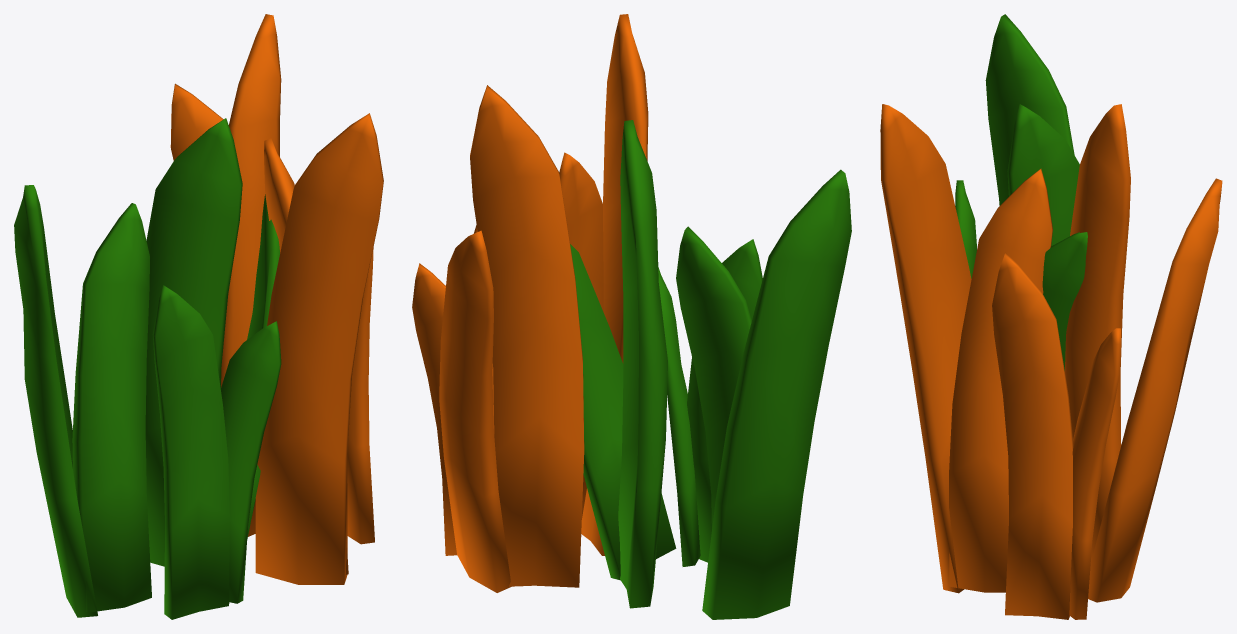
Rendered from grass-09_col.fbx.
3 views of the same model, side by side, from view 1: azimuth 30°, elevation 25°; view 2: azimuth 150°, elevation 25°; view 3: azimuth 270°, elevation 25° (orthographic).
Parts seen in each view (by area): view 1: grass-09.col; view 2: grass-09.col; view 3: grass-09.col.
Boxes of the visible parts, box(x1,y1,x2,y2) form: grass-09.col: box(14, 14, 383, 619); grass-09.col: box(412, 14, 851, 619); grass-09.col: box(880, 14, 1222, 619).
Size of the model in its own units: 0.1003 by 0.1269 by 0.0799.
1 material, 1 textured.
